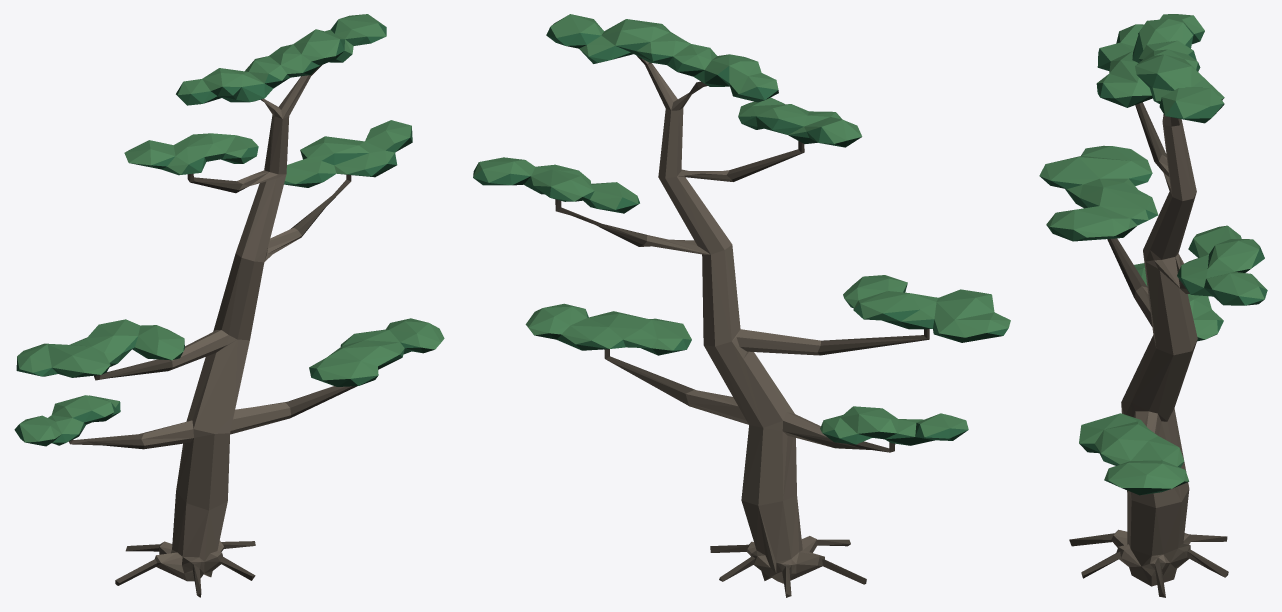
Rendered from ancient-pine-1229-lod2.glb.
3 renders of one model, left to right at view 1: azimuth 30°, elevation 25°; view 2: azimuth 150°, elevation 25°; view 3: azimuth 270°, elevation 25°, orthographic. The views are drawn at different scales.
Visible parts, largest first — view 1: n12.006, n8.006, n11.006, n9.006, n10.006; view 2: n8.006, n12.006, n11.006, n9.006, n10.006; view 3: n12.006, n8.006, n11.006, n9.006, n10.006.
Part boxes in pixels (x1,y1,x2,y2): n12.006: (17,14,444,442); n8.006: (140,75,311,581); n11.006: (14,20,419,442); n9.006: (69,65,356,597); n10.006: (15,51,434,446); n8.006: (640,60,832,583); n12.006: (473,14,1010,438); n11.006: (473,27,1008,444); n9.006: (555,55,929,597); n10.006: (473,35,1002,445); n12.006: (1039,14,1266,488); n8.006: (1111,114,1197,586); n11.006: (1050,23,1267,467); n9.006: (1069,102,1228,597); n10.006: (1040,33,1263,495).
Bounding box in the file's own units: 5.09 × 5.43 × 1.9.
